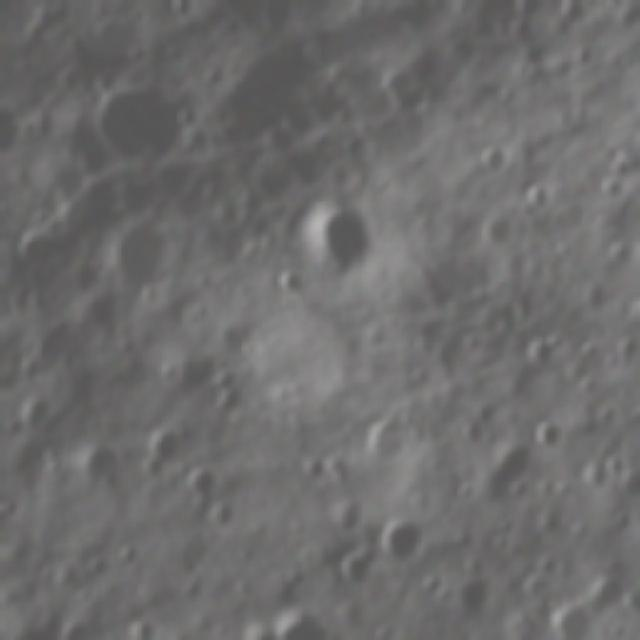crater: (79, 76, 193, 166), (286, 198, 376, 284), (104, 212, 178, 292), (472, 432, 534, 506), (356, 409, 418, 468), (200, 356, 249, 424), (322, 541, 378, 597), (72, 281, 128, 337), (72, 434, 126, 486), (448, 572, 504, 618), (374, 515, 424, 562), (138, 426, 190, 466), (275, 604, 334, 639), (461, 389, 505, 434), (526, 408, 569, 452), (256, 117, 299, 161), (466, 143, 516, 180), (516, 332, 558, 373), (478, 206, 514, 251), (181, 461, 222, 499), (322, 496, 363, 533), (577, 278, 611, 317), (272, 266, 300, 305), (120, 618, 157, 640), (607, 242, 633, 270), (0, 497, 23, 523)
